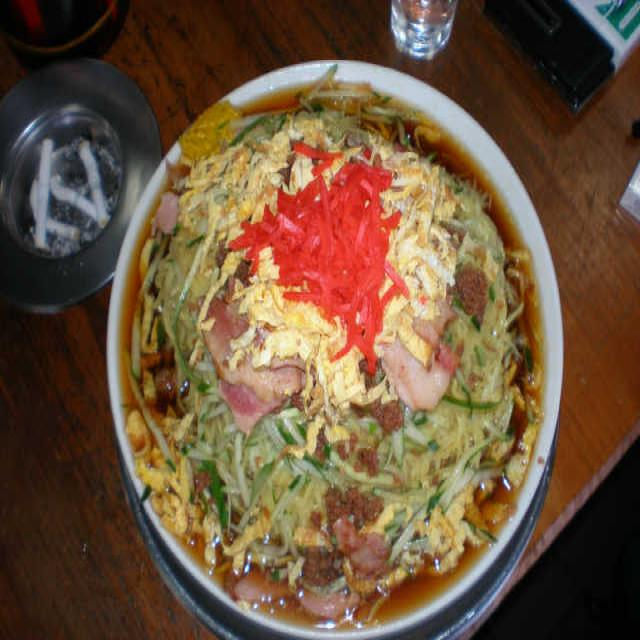面条主食: (100, 58, 569, 640)
